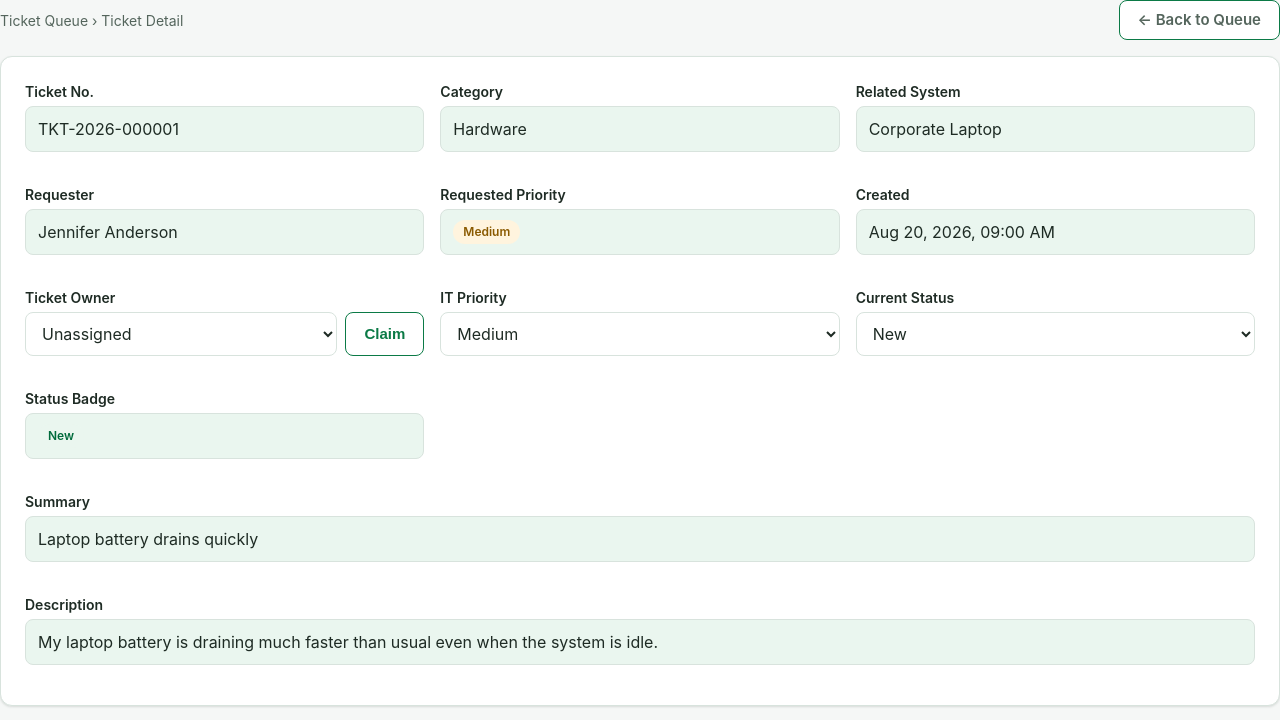
Test case: StaffTicketDetail › claims the ticket for the signed-in staff member and shows the new owner
Click the button "Claim" at (385, 334), box [346,312,424,356]
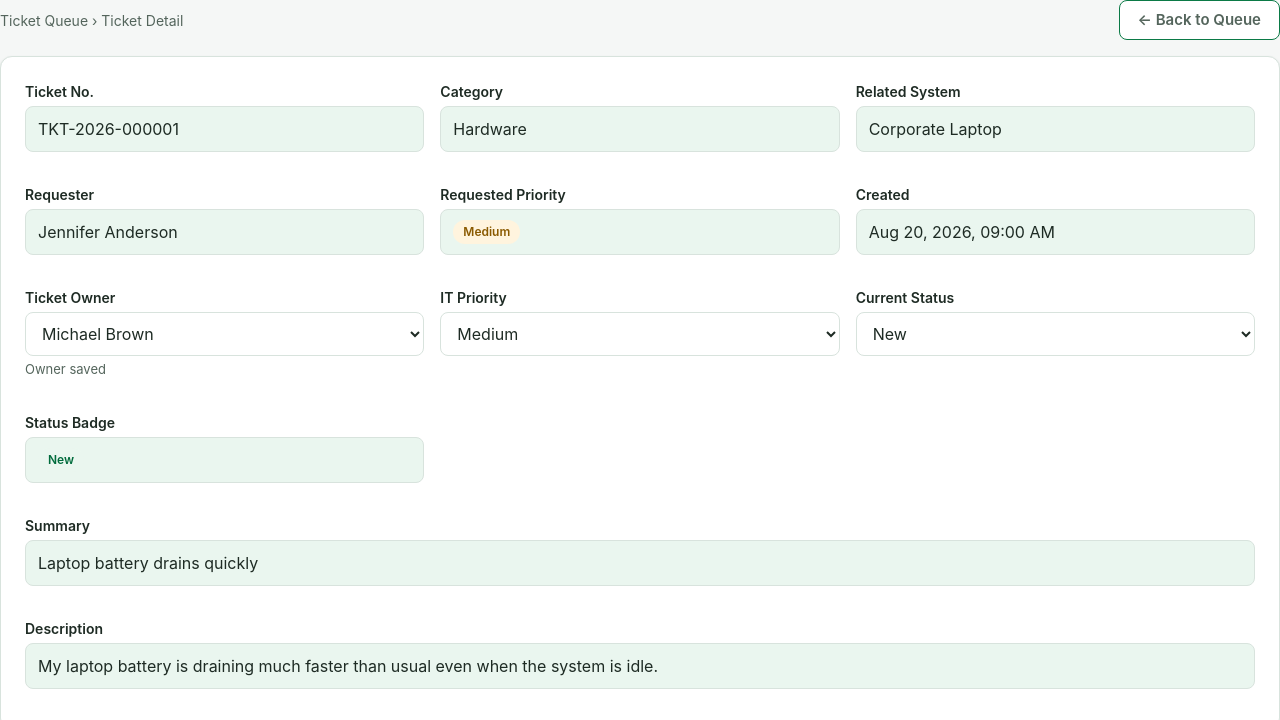
Expected: the dropdown showing "Michael Brown" is shown, [25,312,424,356]
